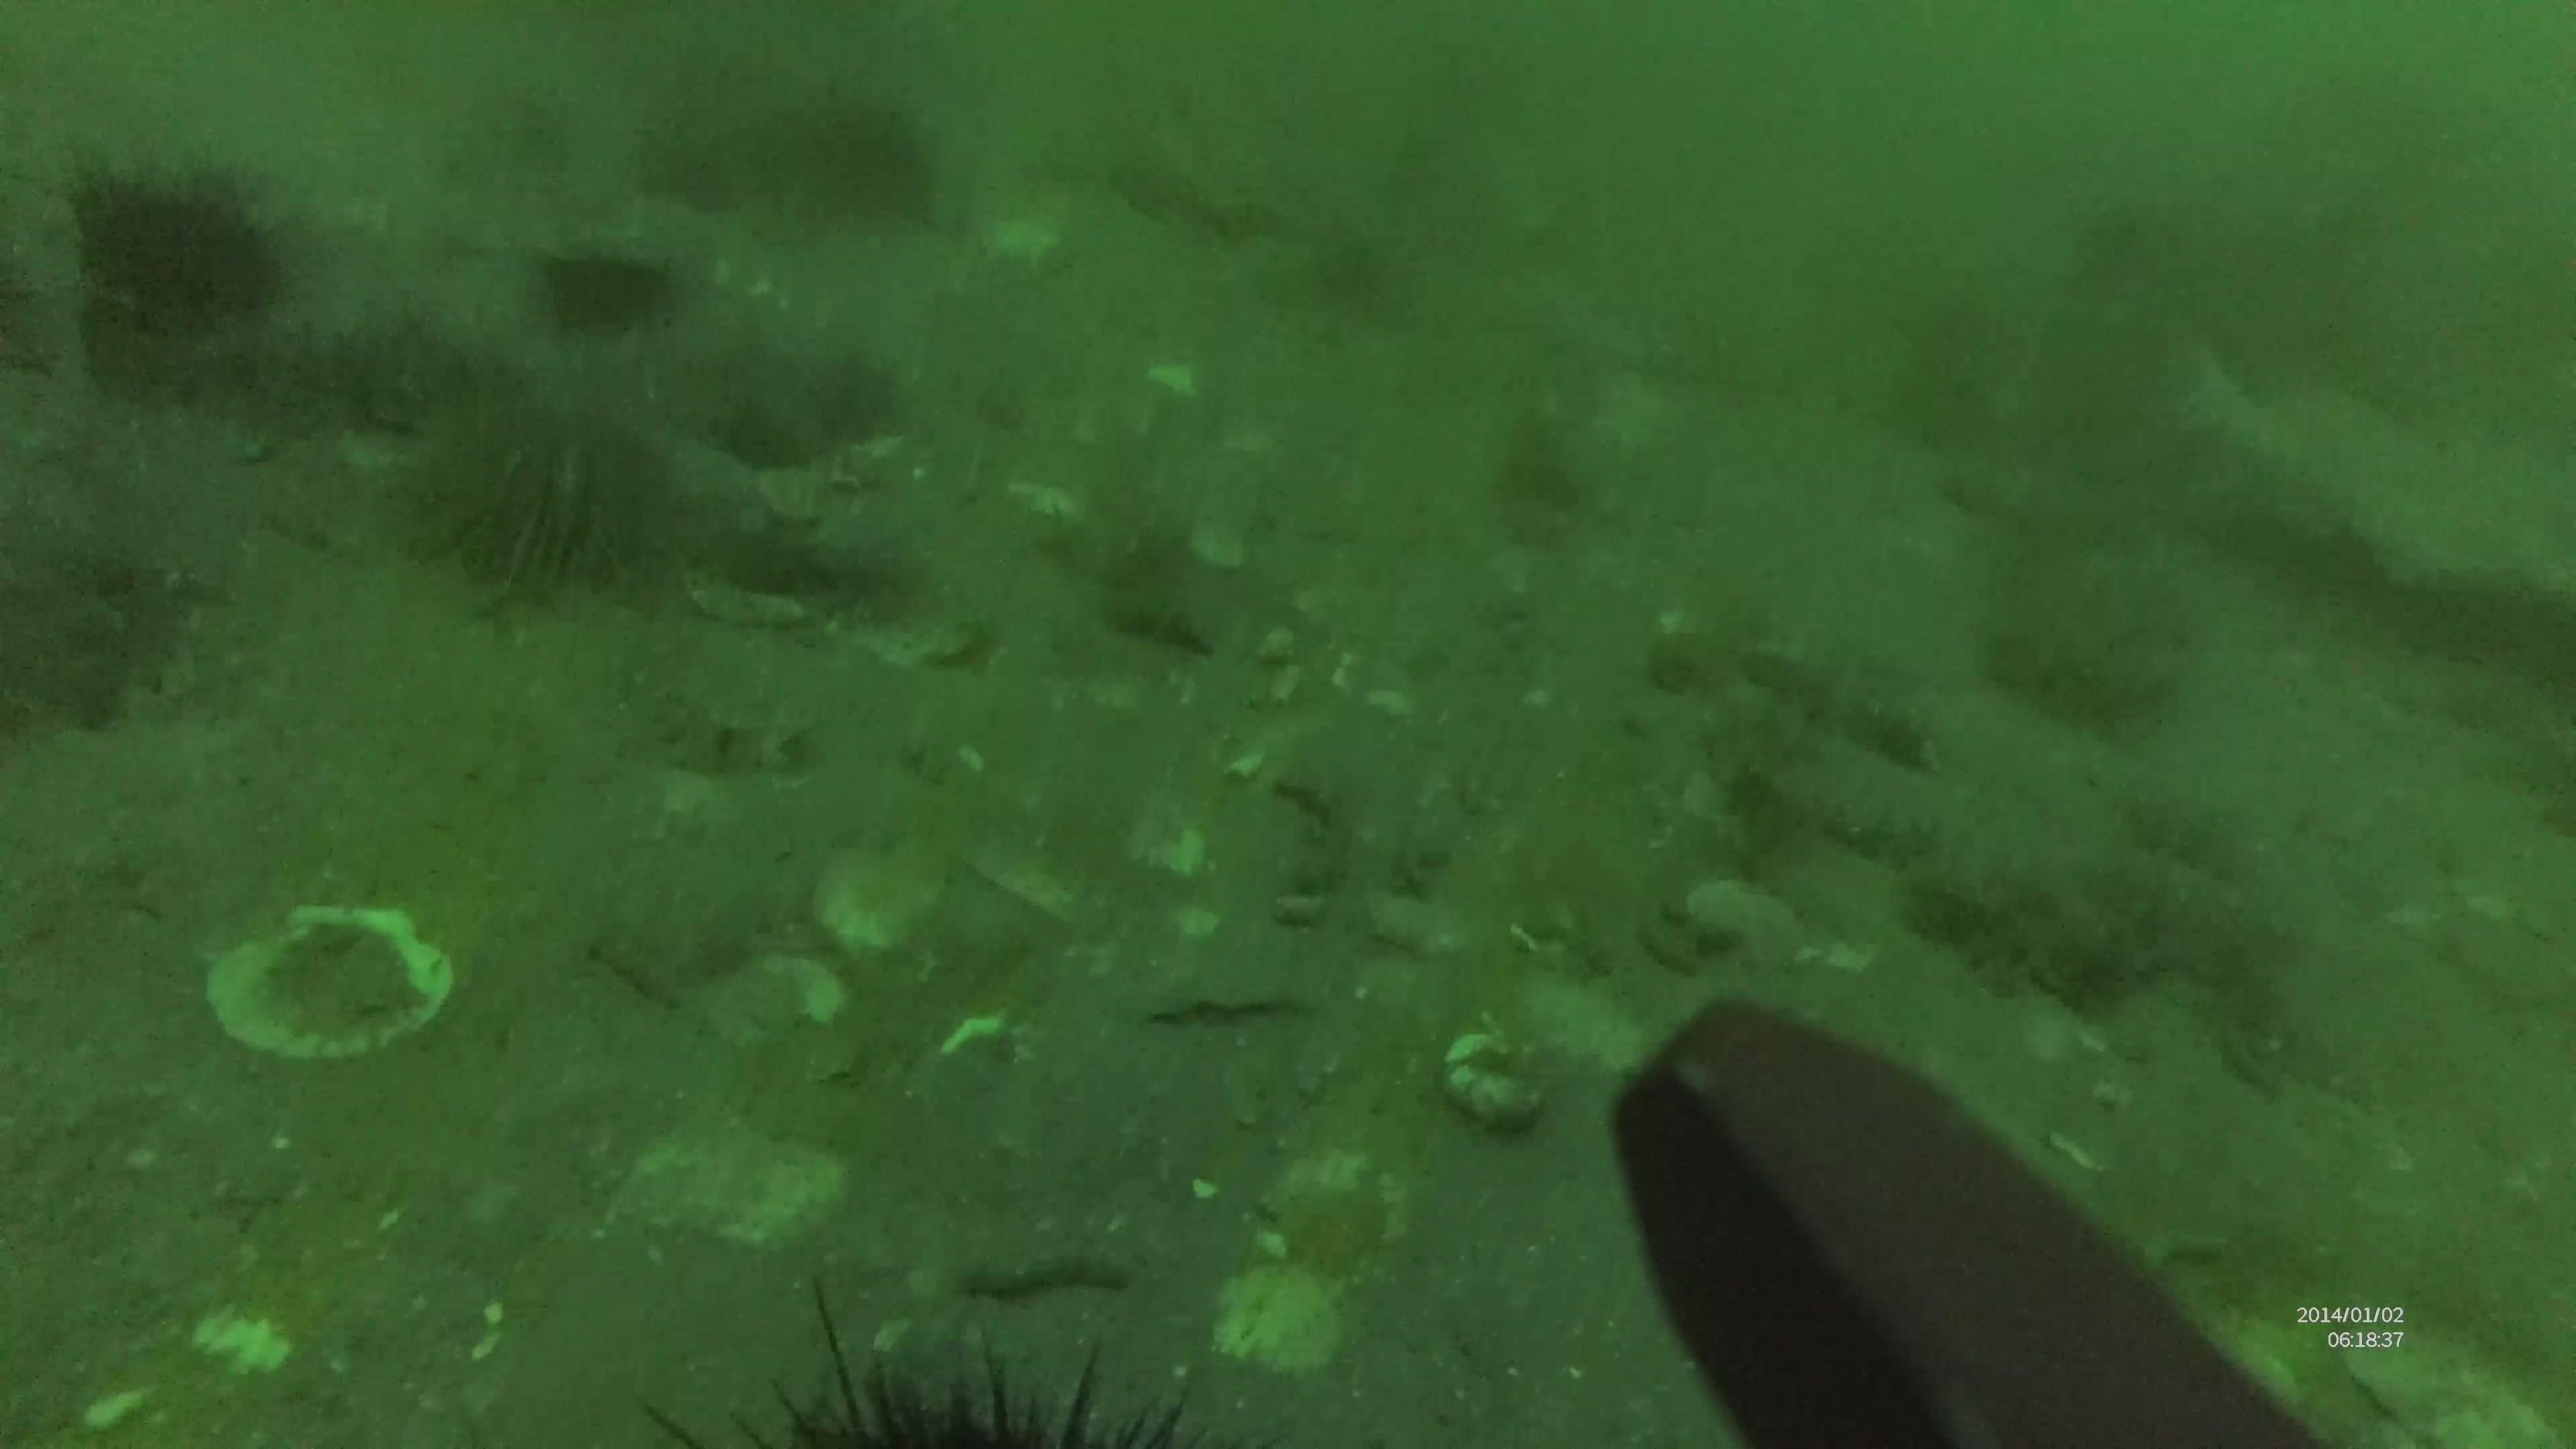echinus: (67, 173, 274, 331), (541, 242, 667, 333)
holothurian: (1739, 635, 1983, 766), (1732, 754, 1957, 872)
